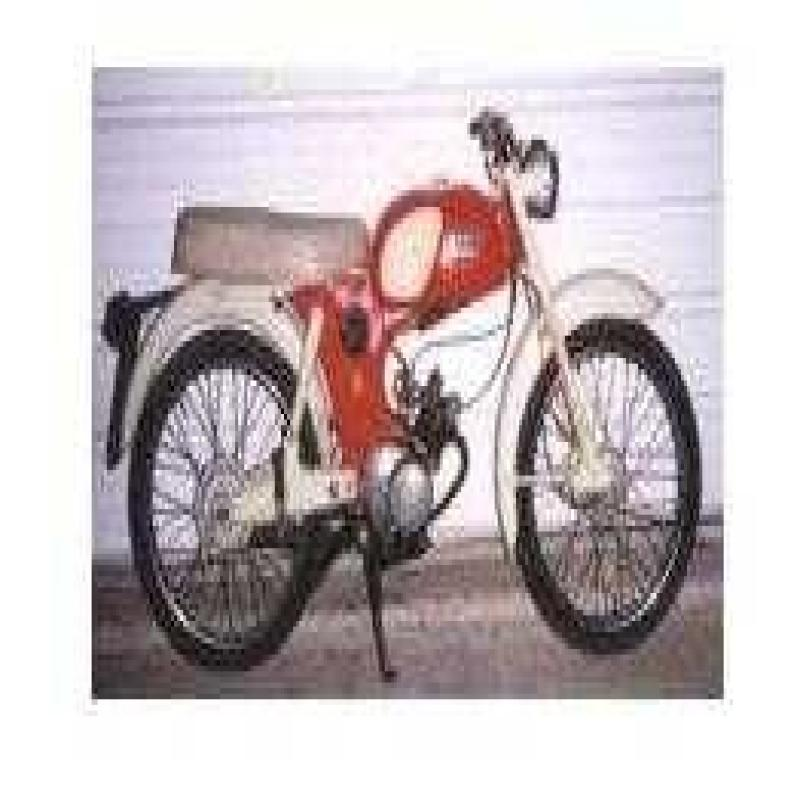bike: (109, 50, 718, 688)
